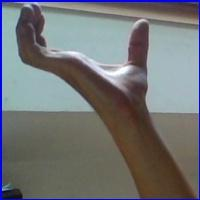space: (12, 4, 160, 121)
